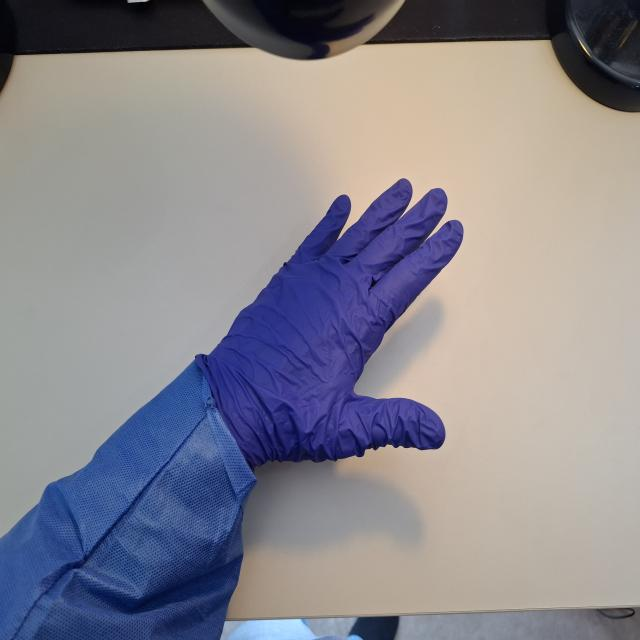glove_on: (192, 175, 468, 478)
